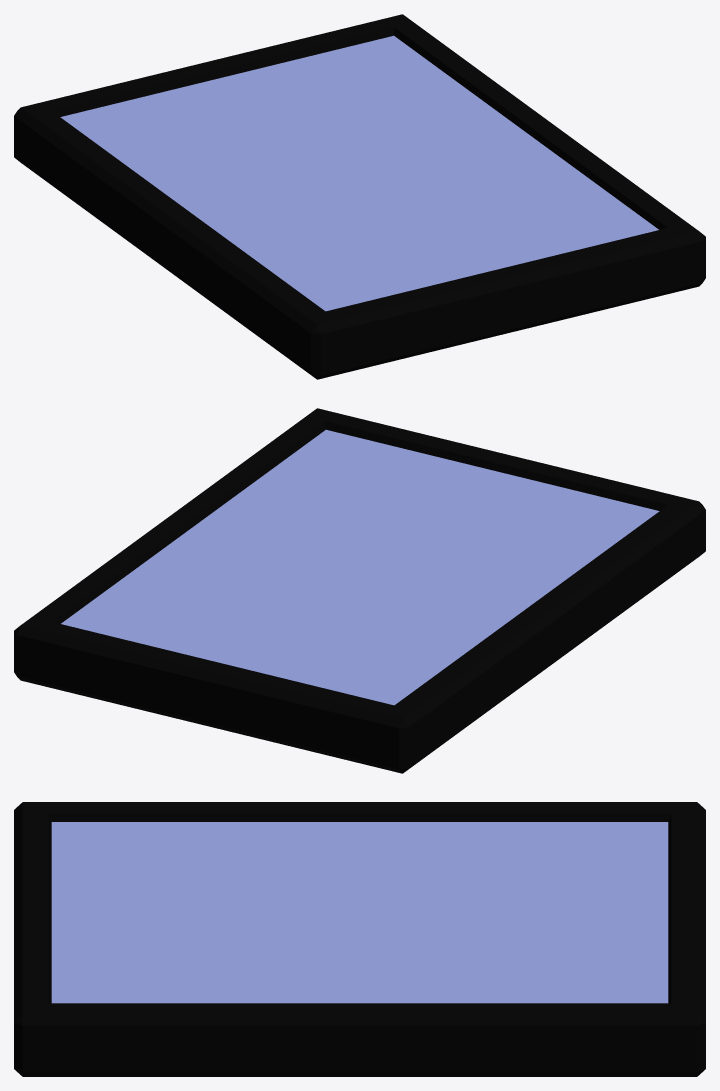
Rendered from Display.fbx.
The picture shows the model from 3 angles, top to bottom: view 1: azimuth 30°, elevation 25°; view 2: azimuth 150°, elevation 25°; view 3: azimuth 270°, elevation 25°; orthographic projection. The views are drawn at different scales.
Parts seen in each view (by area): view 1: Display 1; view 2: Display 1; view 3: Display 1.
Boxes of the visible parts, x1,y1,x2,y2 form: Display 1: [14, 14, 705, 379]; Display 1: [14, 408, 705, 773]; Display 1: [14, 802, 705, 1076].
Bounding box in the file's own units: 75 × 10 × 100.
